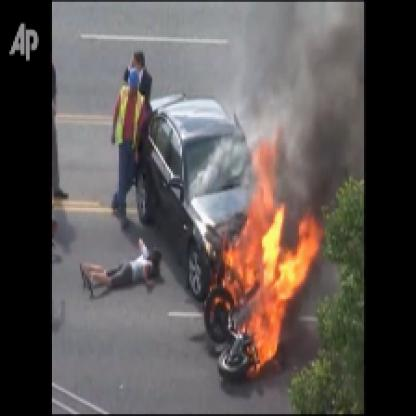Fire: (202, 138, 327, 384)
Smoke: (241, 2, 364, 171)
